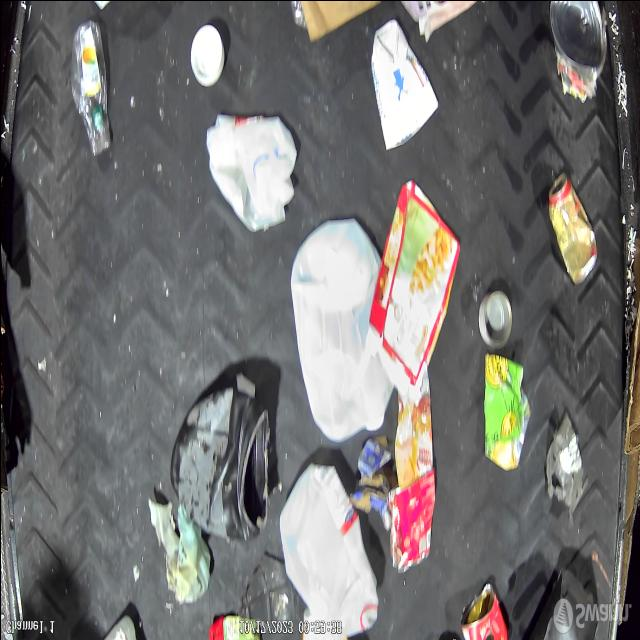can: (549, 172, 599, 284), (548, 0, 601, 76), (461, 583, 507, 640), (477, 286, 515, 350)
milk_jug: (288, 217, 391, 443), (279, 466, 379, 634), (170, 381, 268, 539), (206, 113, 296, 230)
plastic_bottle: (68, 20, 110, 158)
